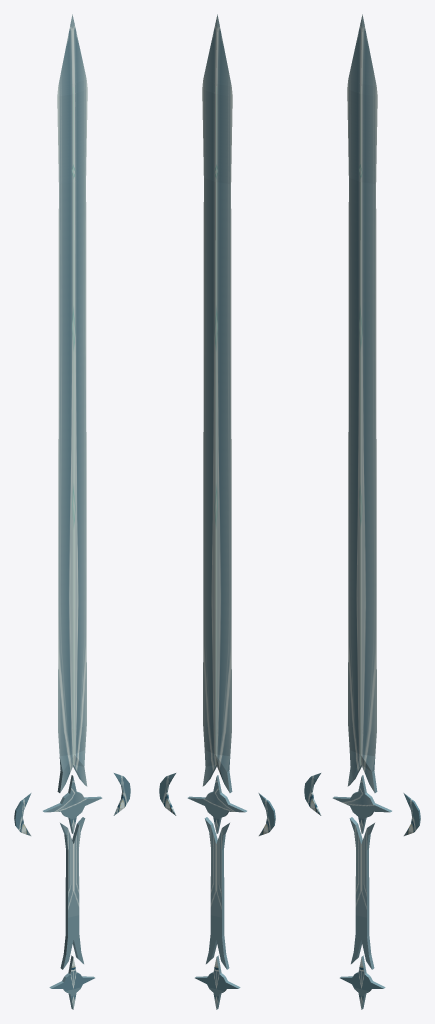
The model's file is heart_sword.obj.
3 renders of one model, left to right at view 1: azimuth 30°, elevation 25°; view 2: azimuth 150°, elevation 25°; view 3: azimuth 330°, elevation 25°, orthographic.
Visible parts, largest first — view 1: blade, handle, guard_center, pommel, guard_right, guard_left; view 2: blade, handle, guard_center, pommel, guard_right, guard_left; view 3: blade, handle, guard_center, pommel, guard_left, guard_right.
Part boxes in pixels (box(x1,y1,x2,y2)): blade: box(57, 14, 87, 792); handle: box(60, 817, 85, 969); guard_center: box(43, 775, 102, 833); pommel: box(49, 955, 94, 1009); guard_right: box(113, 773, 130, 815); guard_left: box(14, 793, 31, 835); blade: box(202, 14, 232, 792); handle: box(204, 817, 229, 969); guard_center: box(187, 775, 246, 833); pommel: box(195, 955, 240, 1009); guard_right: box(159, 773, 176, 815); guard_left: box(258, 793, 275, 835); blade: box(347, 14, 377, 792); handle: box(349, 817, 374, 969); guard_center: box(332, 775, 391, 833); pommel: box(340, 955, 385, 1009); guard_left: box(304, 773, 321, 815); guard_right: box(403, 793, 420, 835).
Size of the model in its own units: 0.2275 by 1.88 by 0.0125.
